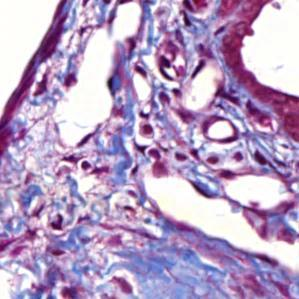steatosis: (206, 116, 235, 142)
